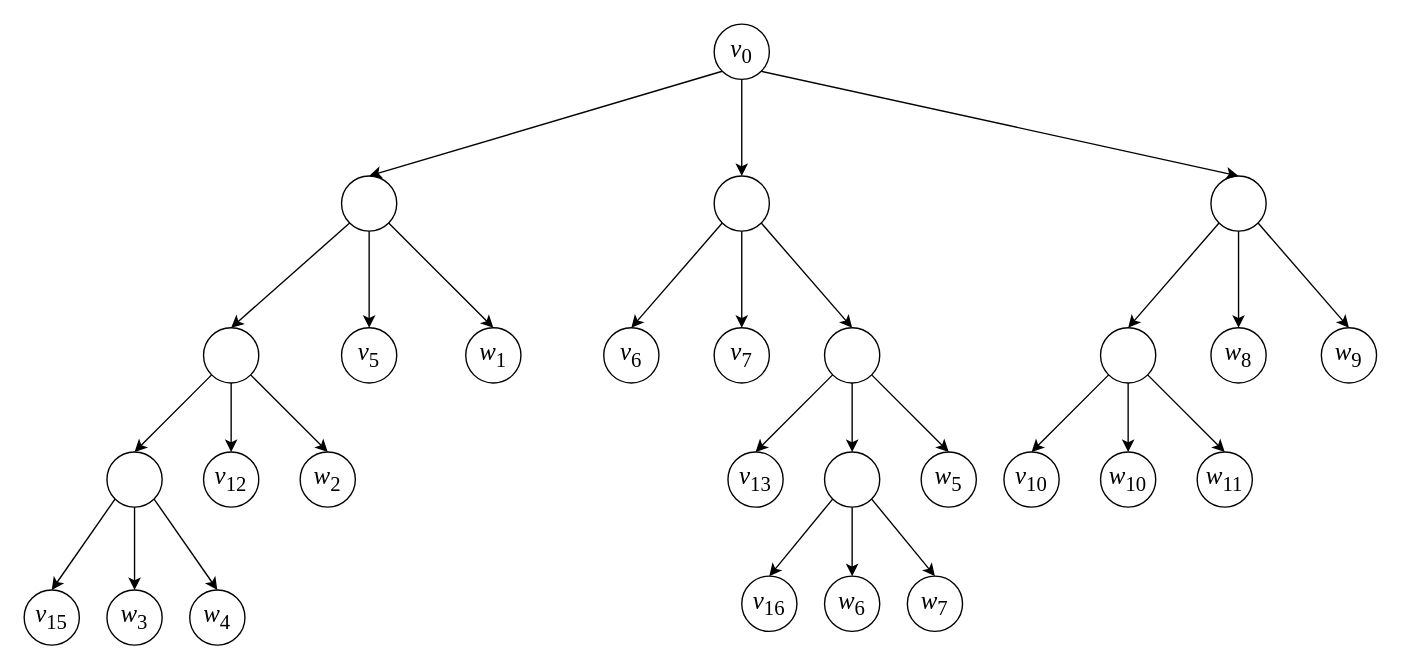
The diagram is 1401 pixels wide and 669 high, and some of its shapes have lost their labels. Here are the shapes that lost their labels. From the top down, the box of each, then its label:
(340, 175, 397, 231): v 1
(713, 175, 769, 231): v 2
(1210, 175, 1266, 231): v 3
(202, 326, 259, 383): v 4
(823, 326, 880, 383): v 8
(1099, 326, 1156, 383): v 9
(106, 451, 162, 507): v 11
(823, 451, 880, 507): v 14
